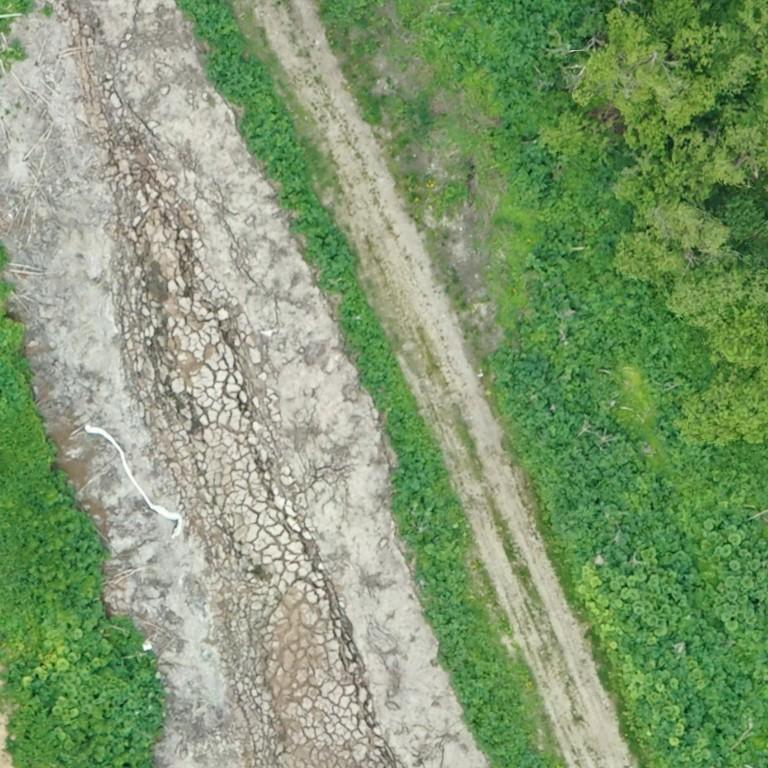hogweed: (180, 0, 559, 767), (492, 198, 713, 569), (0, 317, 105, 630), (443, 0, 592, 123)
